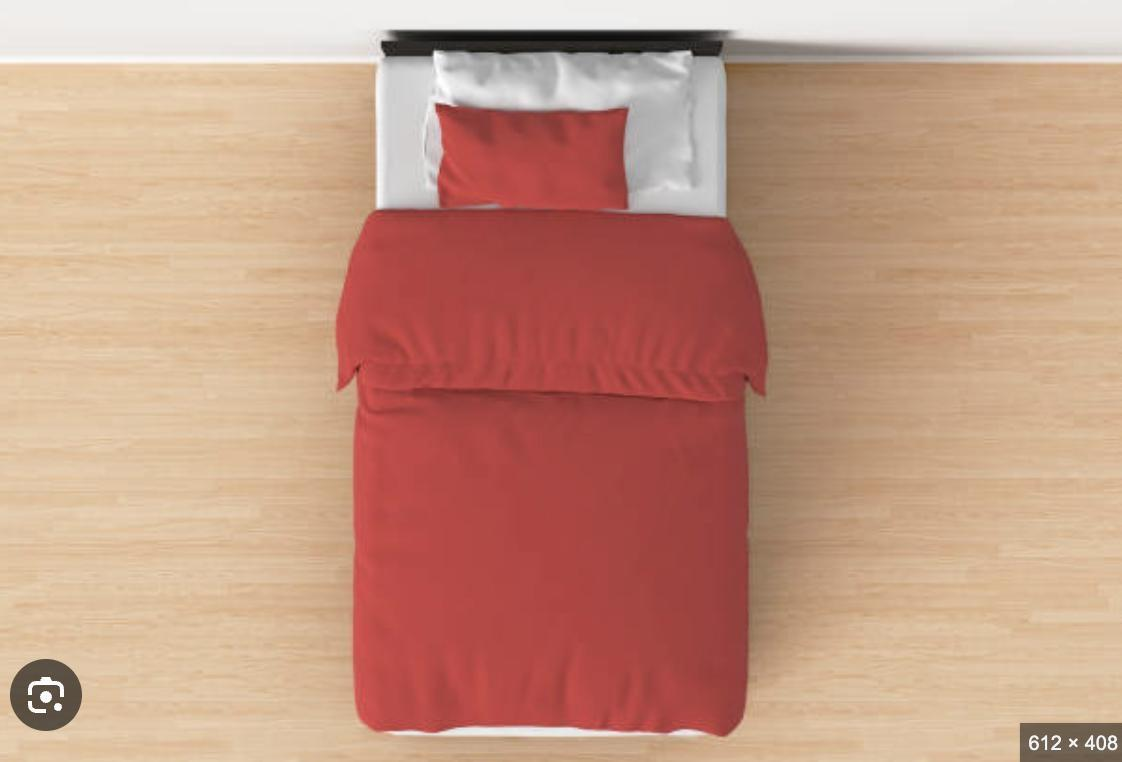Bed-Mattress: (355, 23, 758, 744)
